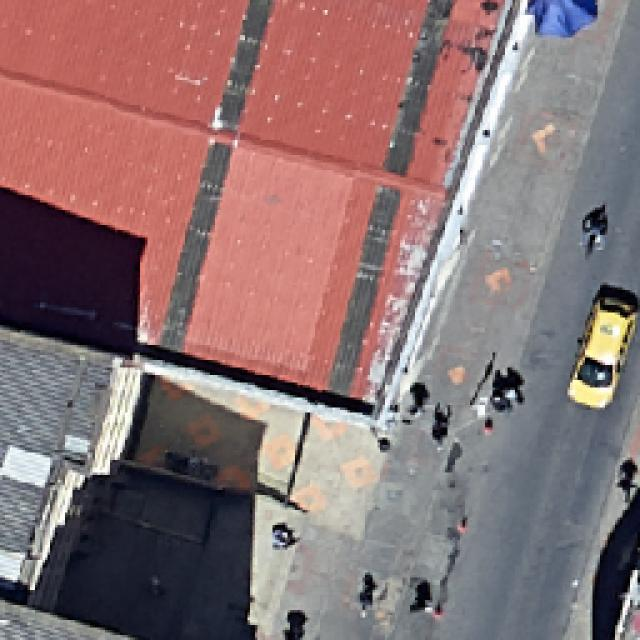vendedor_ambulante: (525, 0, 597, 40)
